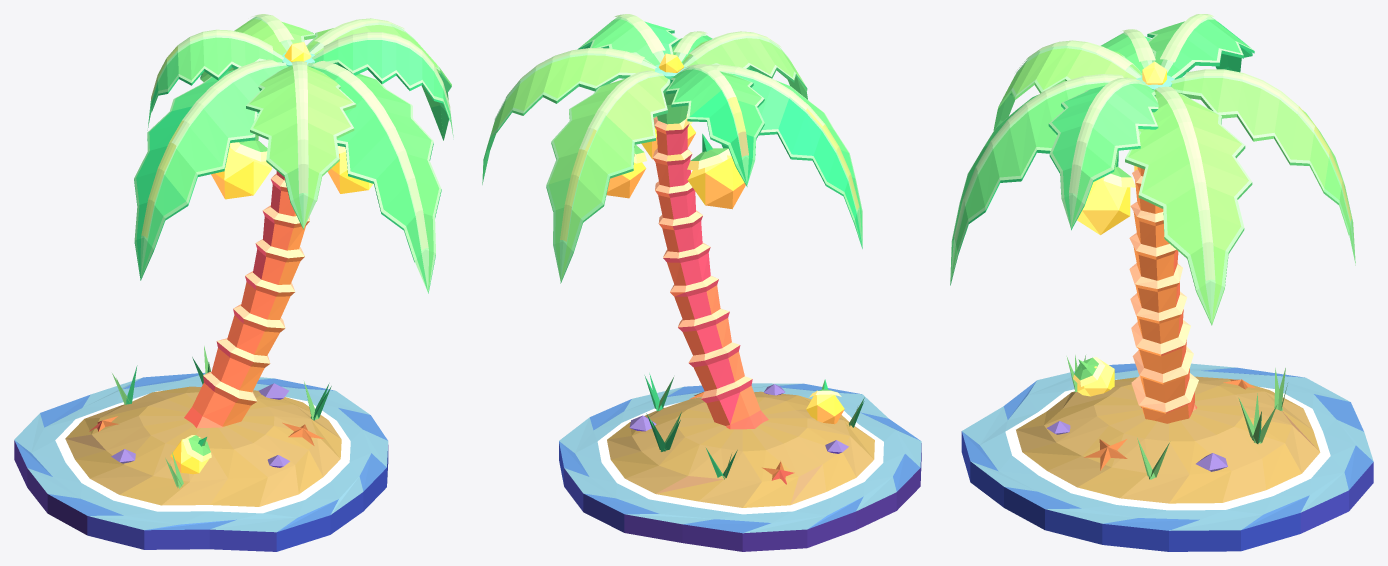
Rendered from palm.glb.
3 renders of one model, left to right at view 1: azimuth 30°, elevation 25°; view 2: azimuth 150°, elevation 25°; view 3: azimuth 270°, elevation 25°, orthographic. The views are drawn at different scales.
Visible parts, largest first — view 1: Fronds, Ground, Trunk, Coconuts, Foam; view 2: Ground, Fronds, Trunk, Coconuts, Foam; view 3: Ground, Fronds, Trunk, Foam, Coconuts.
Boxes of the visible parts, bbox=[...] form: Fronds: bbox=[134, 14, 453, 455]; Ground: bbox=[14, 346, 388, 551]; Trunk: bbox=[184, 171, 309, 428]; Coconuts: bbox=[170, 42, 372, 474]; Foam: bbox=[55, 390, 350, 513]; Ground: bbox=[559, 373, 921, 551]; Fronds: bbox=[482, 14, 862, 391]; Trunk: bbox=[653, 116, 768, 429]; Coconuts: bbox=[606, 53, 844, 424]; Foam: bbox=[597, 402, 883, 514]; Ground: bbox=[961, 355, 1373, 551]; Fronds: bbox=[950, 14, 1355, 380]; Trunk: bbox=[1129, 167, 1198, 423]; Foam: bbox=[1005, 379, 1330, 510]; Coconuts: bbox=[1073, 61, 1166, 396].
Size of the model in its own units: 3.53 by 3.48 by 2.9.
